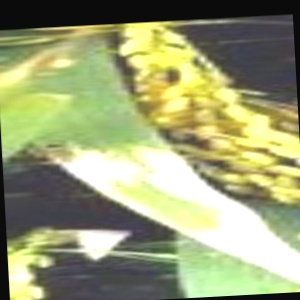Leaf_Blast: (75, 141, 227, 230)
